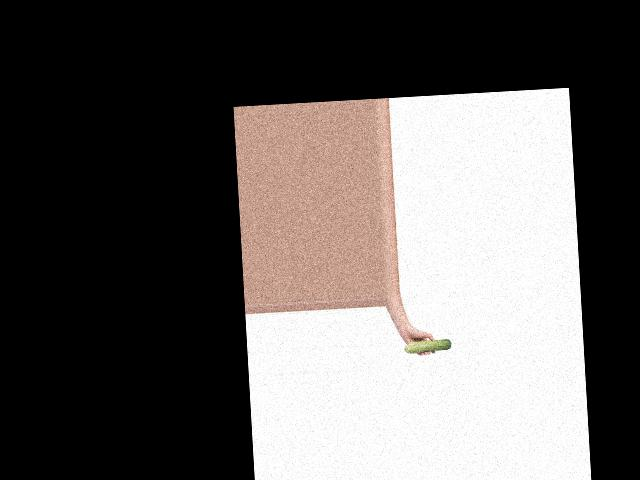cucumber: (403, 337, 452, 353)
